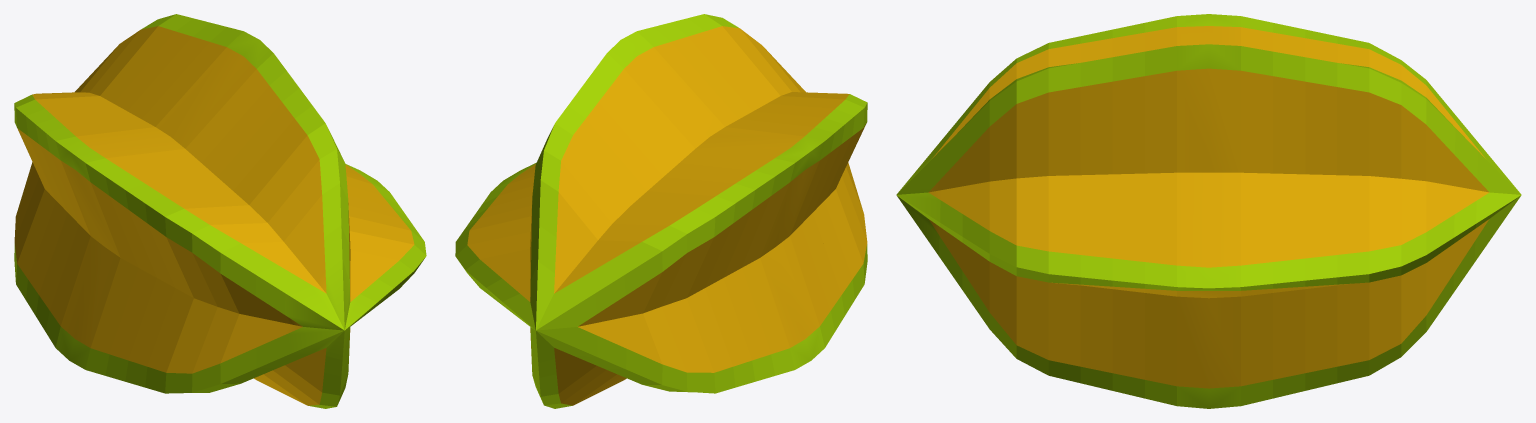
The model's file is Starfruit.fbx.
The picture shows the model from 3 angles, left to right: view 1: azimuth 30°, elevation 25°; view 2: azimuth 150°, elevation 25°; view 3: azimuth 270°, elevation 25°; orthographic projection. The views are drawn at different scales.
Visible parts, largest first — view 1: polySurface294; view 2: polySurface294; view 3: polySurface294.
Boxes of the visible parts, left/top/right/bottom form: polySurface294: left=14, top=14, right=426, bottom=408; polySurface294: left=455, top=14, right=867, bottom=408; polySurface294: left=896, top=14, right=1521, bottom=408.
Size of the model in its own units: 153 by 161 by 251.
